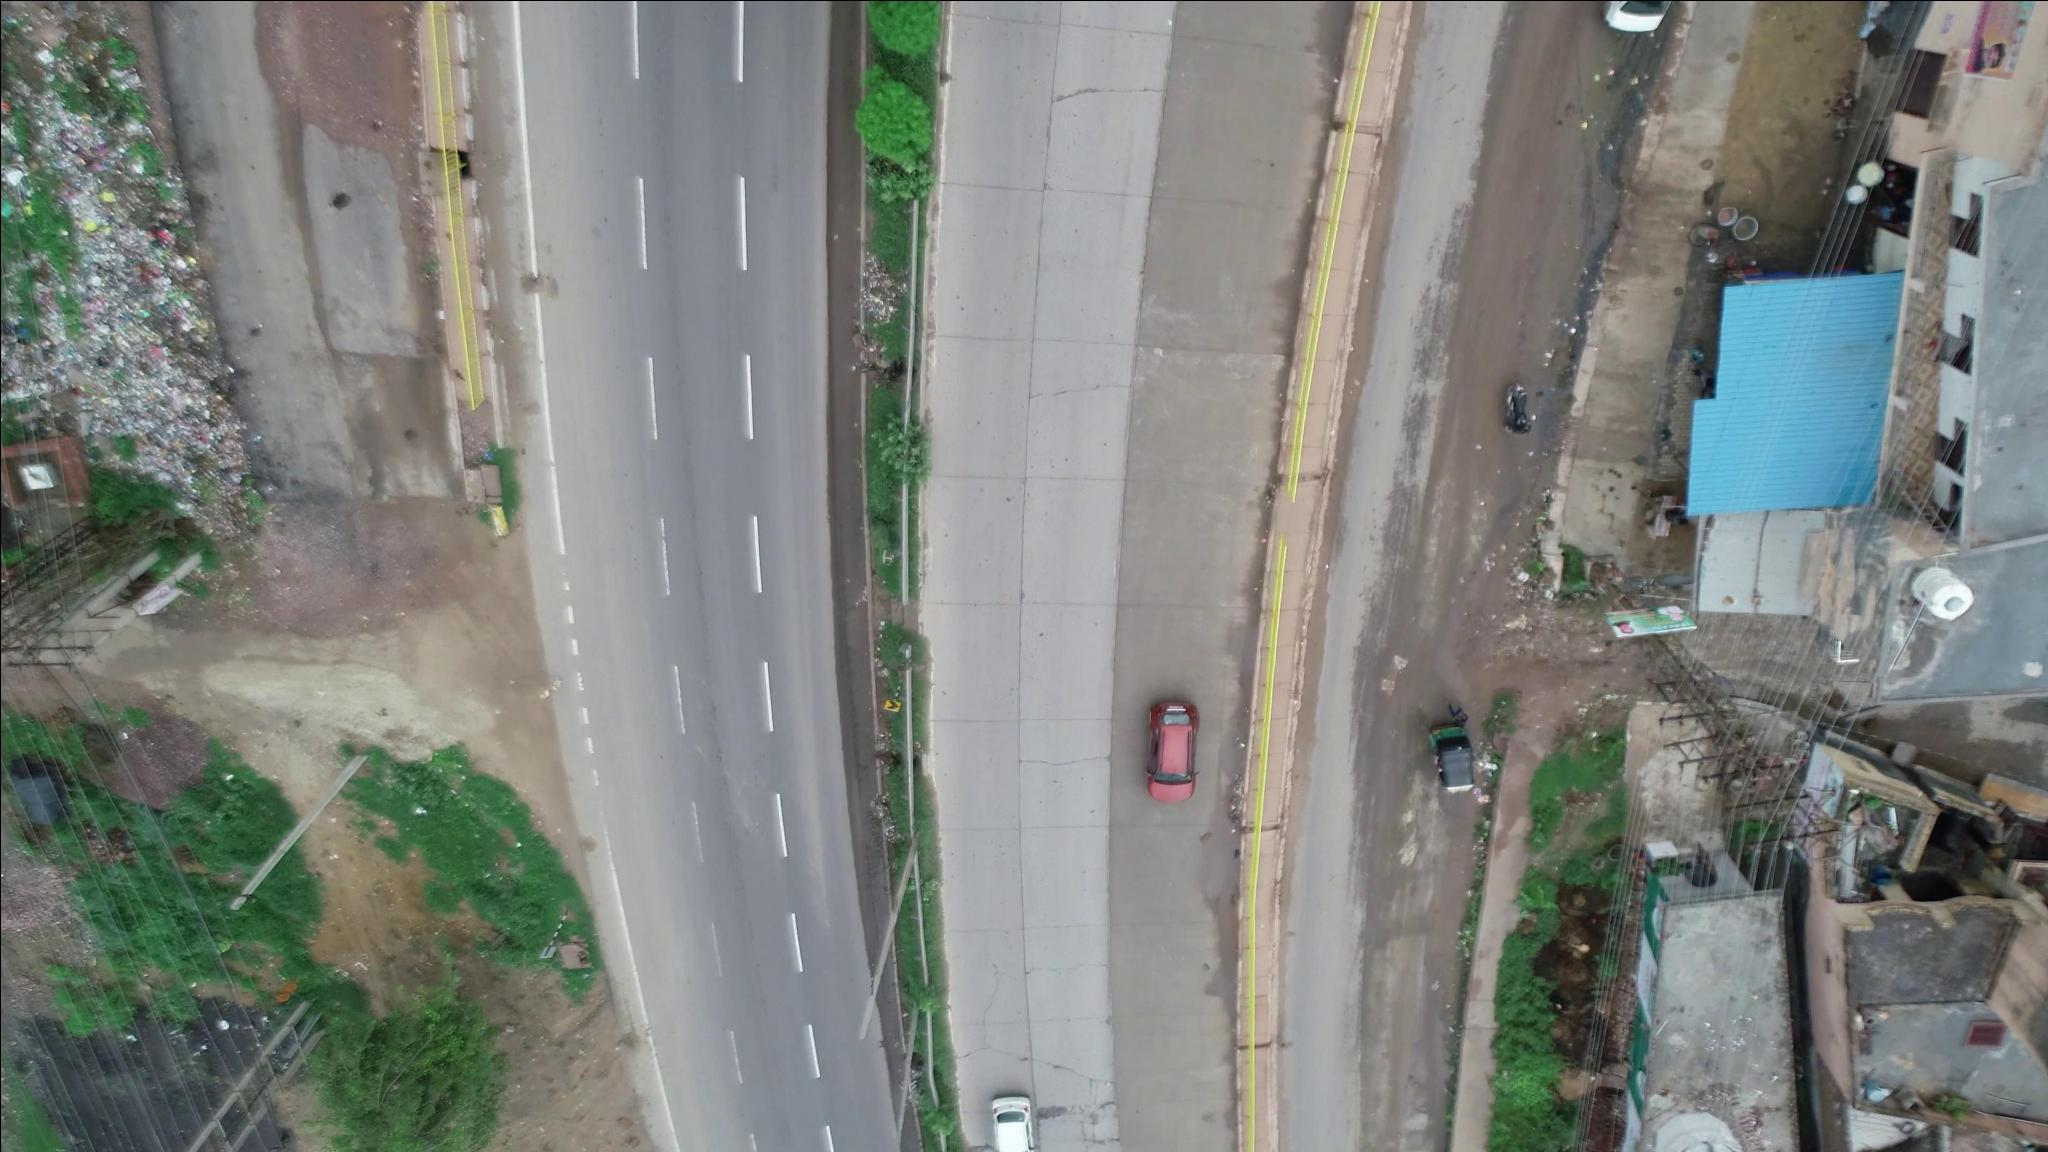Road_side_garbage: (48, 131, 219, 508)
